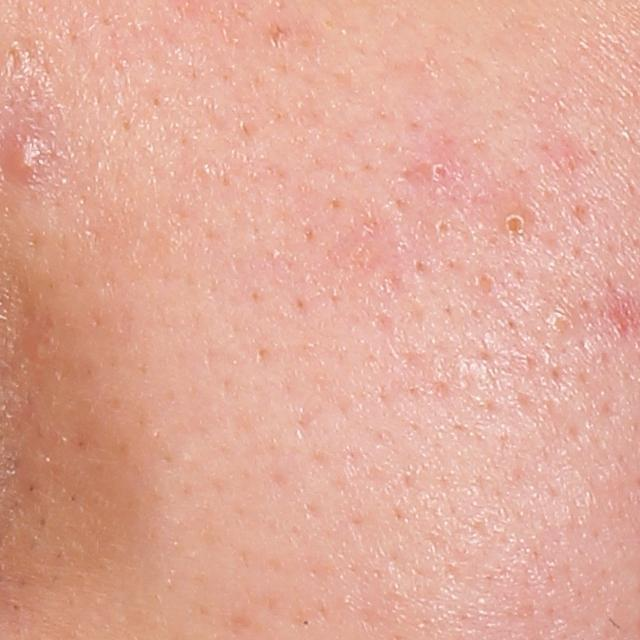comedo: (496, 207, 535, 243), (426, 153, 455, 182), (432, 218, 463, 245)
